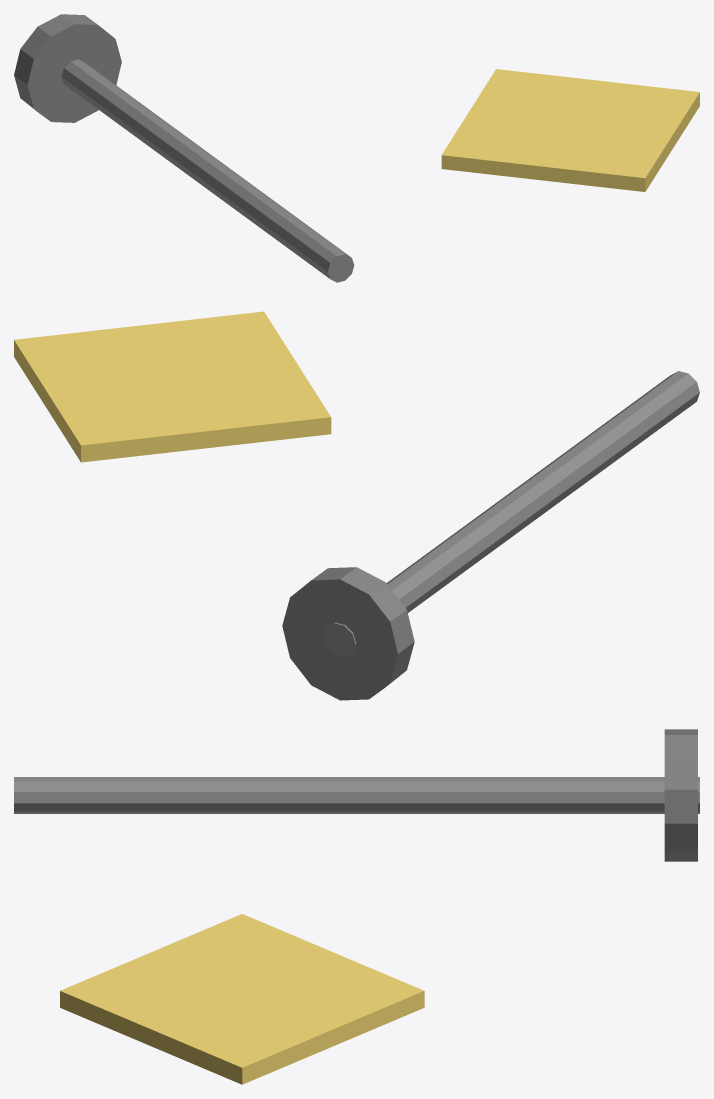
The model's file is road_warning_sign.glb.
The picture shows the model from 3 angles, top to bottom: view 1: azimuth 30°, elevation 25°; view 2: azimuth 150°, elevation 25°; view 3: azimuth 270°, elevation 25°; orthographic projection. The views are drawn at different scales.
Visible parts, largest first — view 1: diamond_plate, sign_pole, sign_base; view 2: diamond_plate, sign_pole, sign_base; view 3: diamond_plate, sign_pole, sign_base.
Part boxes in pixels (x1=…): diamond_plate: x1=441, y1=69, x2=699, y2=191; sign_pole: x1=61, y1=59, x2=354, y2=282; sign_base: x1=14, y1=14, x2=121, y2=122; diamond_plate: x1=14, y1=311, x2=331, y2=462; sign_pole: x1=323, y1=371, x2=699, y2=657; sign_base: x1=282, y1=567, x2=414, y2=700; diamond_plate: x1=60, y1=914, x2=424, y2=1084; sign_pole: x1=14, y1=777, x2=699, y2=813; sign_base: x1=664, y1=729, x2=697, y2=861.
Size of the model in its own units: 1.69 by 0.32 by 1.65.
